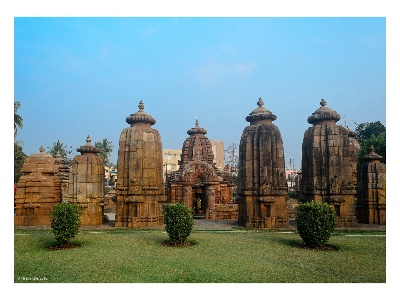amalaka: (234, 108, 284, 131), (115, 108, 162, 130), (298, 107, 349, 126), (70, 136, 106, 162), (181, 120, 218, 143)
gopuram: (232, 122, 292, 194), (302, 120, 362, 191), (114, 127, 170, 193)
torana: (176, 158, 224, 217)
